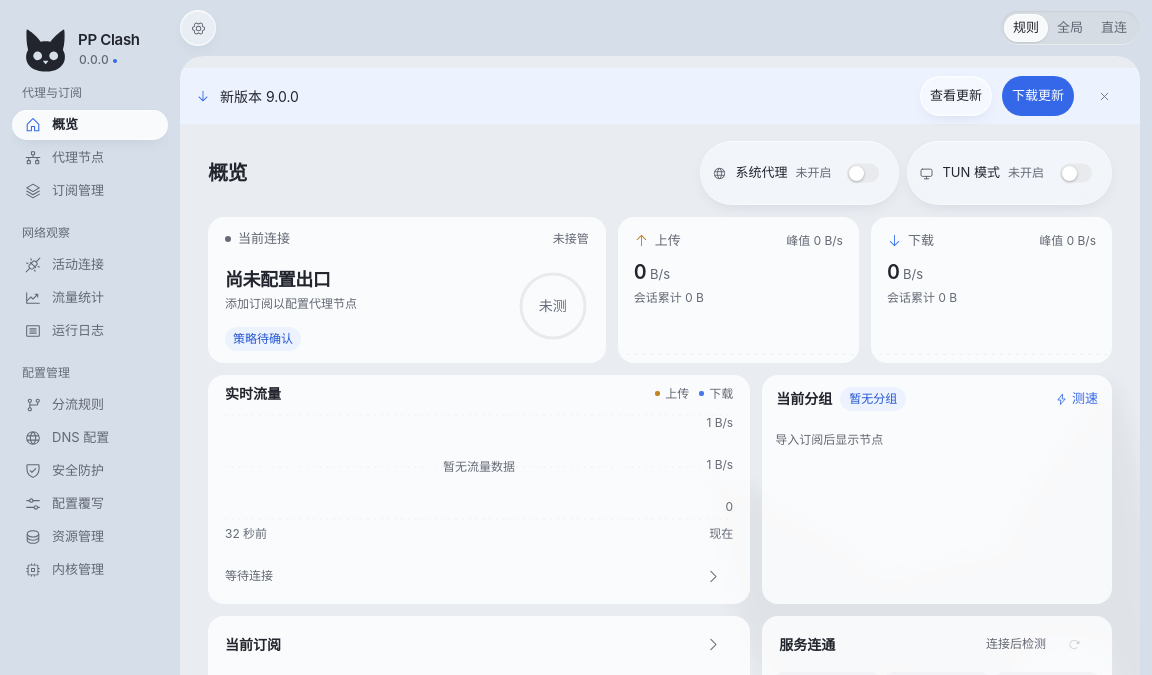
Test case: 主区更新提示的图标操作带名称，切页仍沿原有回调更新当前页
Step 1. Click the 1st button with class "icon-btn" → (1104, 96), box [1084,76,1124,116]
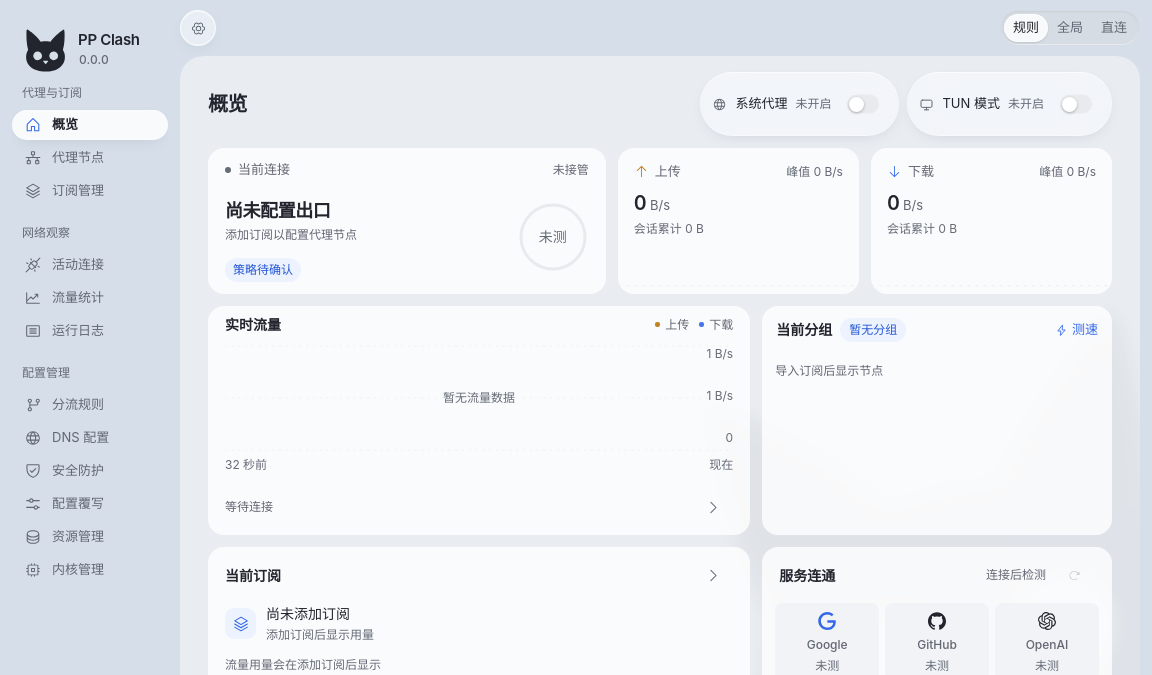
Check: the message with class "update-banner" is gone
Step 2. Click the button named "打开设置" → (198, 28), box [180,10,216,46]
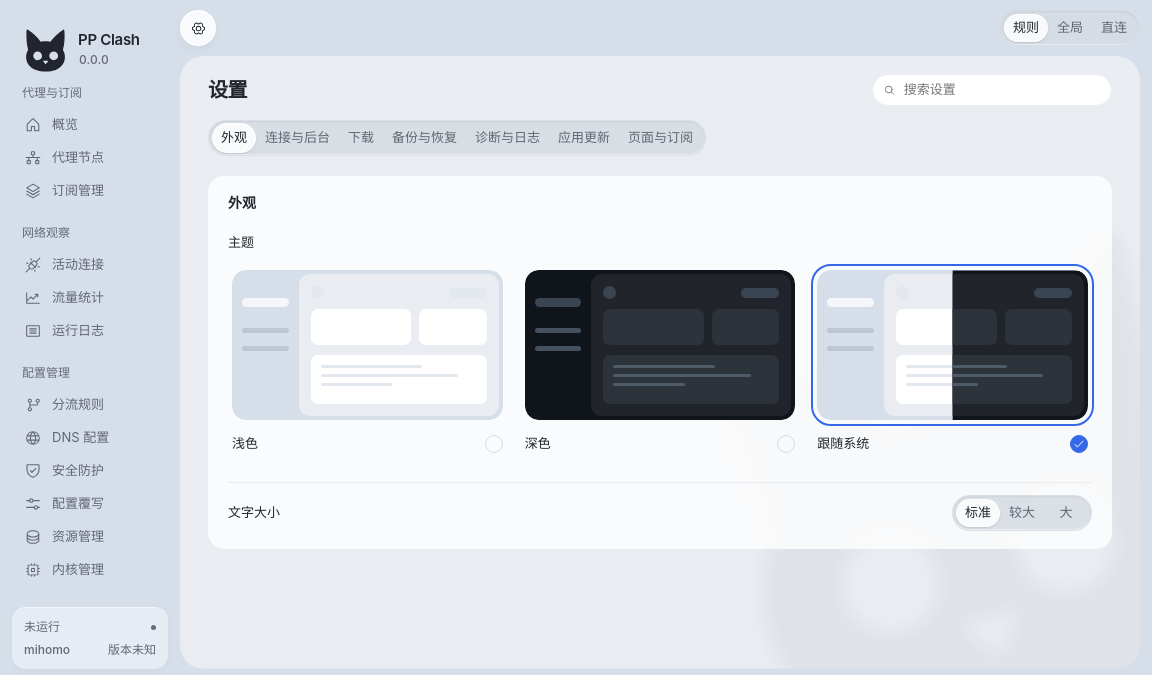
Check: the heading "设置" is shown, box [208,78,247,102]
